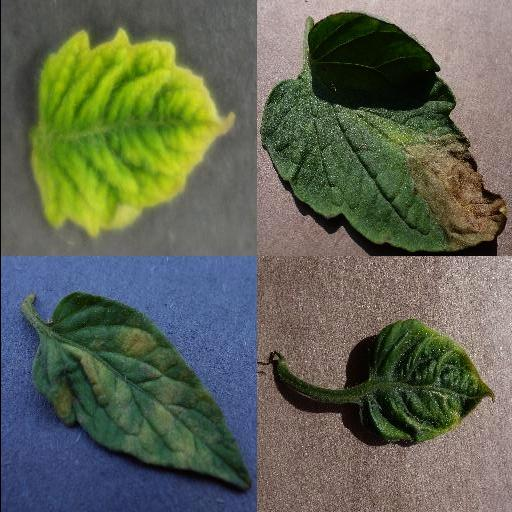Late Blight: (262, 10, 506, 254)
Leaf Mold: (27, 292, 251, 490)
Yellow Leaf Curl Virus: (31, 26, 235, 240), (354, 318, 494, 446)
